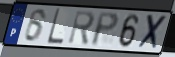6: (23, 8, 48, 43), (118, 13, 141, 49)
L: (45, 8, 64, 46)
P: (90, 12, 120, 48)
R: (66, 9, 96, 47)
X: (135, 13, 169, 52)
